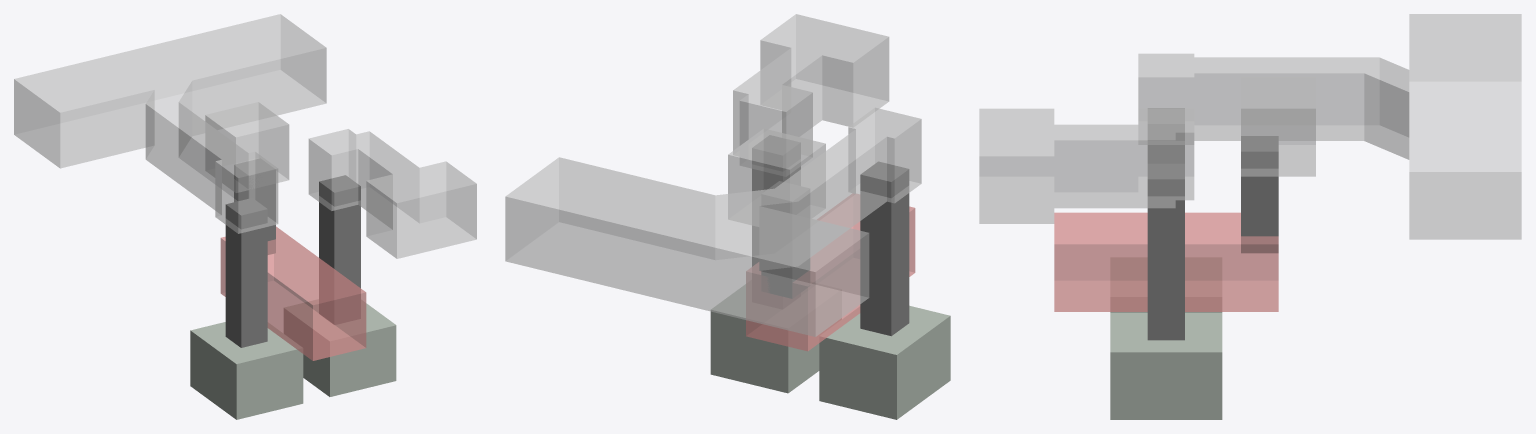
File: board.glb
3 views of the same model, side by side, from view 1: azimuth 30°, elevation 25°; view 2: azimuth 150°, elevation 25°; view 3: azimuth 270°, elevation 25° (orthographic). The views are drawn at different scales.
Parts seen in each view (by area): view 1: Copper_Net3_Contour0 (×3), Copper_Net2_Contour0 (×3), Copper_Net1_Contour0 (×3); view 2: Copper_Net3_Contour0 (×3), Copper_Net2_Contour0 (×3), Copper_Net1_Contour0 (×3); view 3: Copper_Net3_Contour0 (×3), Copper_Net2_Contour0 (×3), Copper_Net1_Contour0 (×3).
Part boxes in pixels (left/top/right/bottom): Copper_Net3_Contour0 (×3): left=14, top=14, right=326, bottom=419; Copper_Net2_Contour0 (×3): left=284, top=129, right=476, bottom=396; Copper_Net1_Contour0 (×3): left=205, top=102, right=366, bottom=360; Copper_Net3_Contour0 (×3): left=505, top=107, right=950, bottom=419; Copper_Net2_Contour0 (×3): left=710, top=14, right=889, bottom=393; Copper_Net1_Contour0 (×3): left=728, top=128, right=915, bottom=351; Copper_Net3_Contour0 (×3): left=1110, top=14, right=1521, bottom=312; Copper_Net2_Contour0 (×3): left=979, top=108, right=1222, bottom=419; Copper_Net1_Contour0 (×3): left=1054, top=77, right=1315, bottom=311.
Size of the model in its own units: 2e-06 by 1.65e-06 by 2.9e-06.
